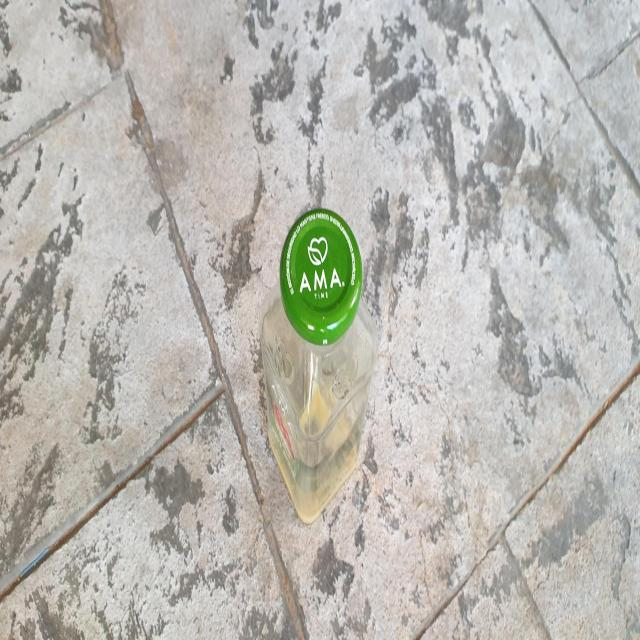glass: (260, 208, 378, 524)
